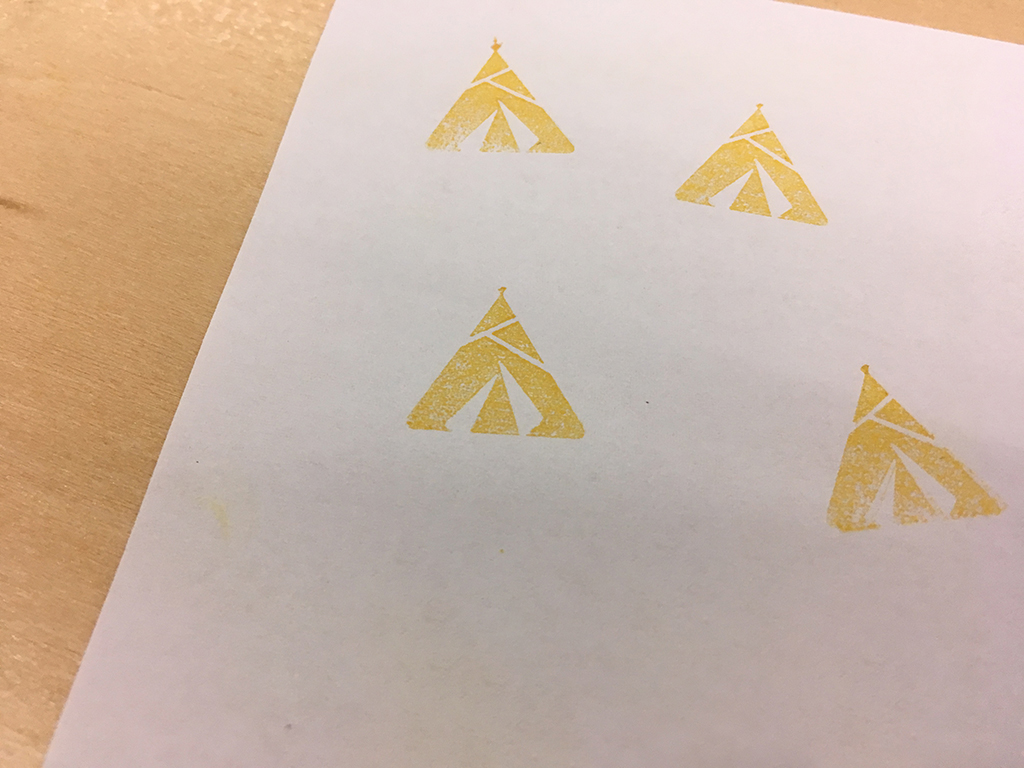tent: (815, 350, 1013, 546), (398, 273, 603, 452), (668, 92, 841, 236), (418, 31, 585, 164)
